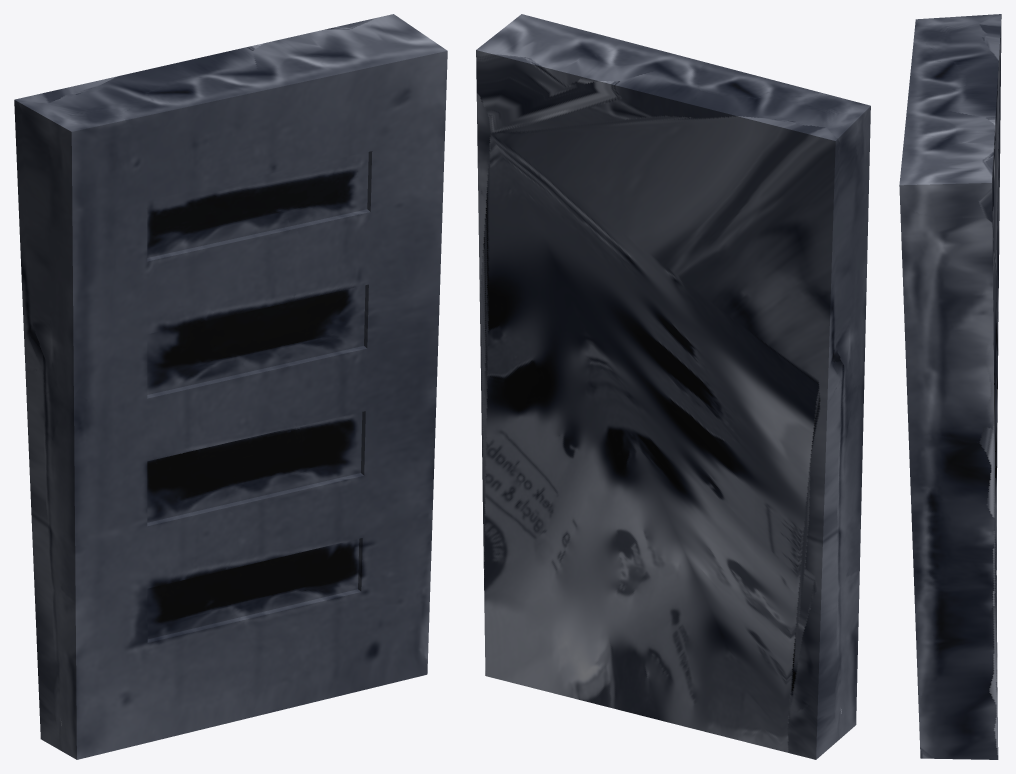
File: Vent.fbx
3 views of the same model, side by side, from view 1: azimuth 30°, elevation 25°; view 2: azimuth 150°, elevation 25°; view 3: azimuth 270°, elevation 25° (orthographic). The views are drawn at different scales.
Visible parts, largest first — view 1: Cube; view 2: Cube; view 3: Cube.
Part boxes in pixels (bbox=[...]): Cube: bbox=[14, 14, 447, 759]; Cube: bbox=[476, 14, 870, 759]; Cube: bbox=[899, 14, 1001, 759].
Bounding box in the file's own units: 15.75 × 25.61 × 4.02.
1 material, 1 textured.
